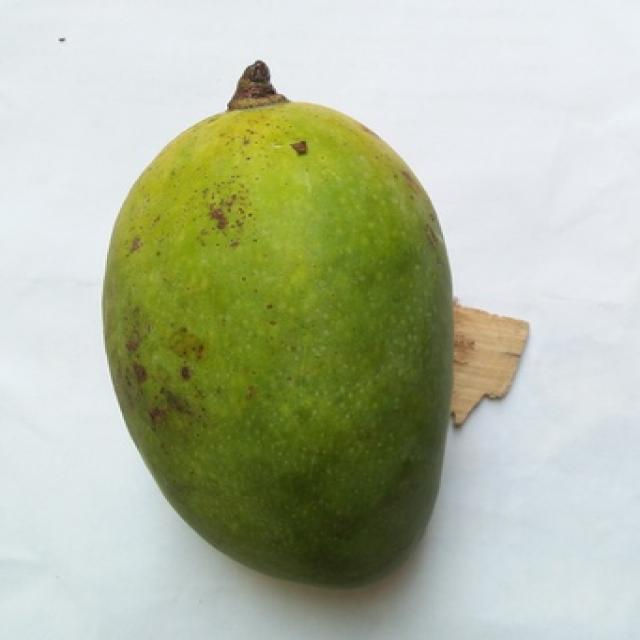Mango: (103, 96, 452, 584)
